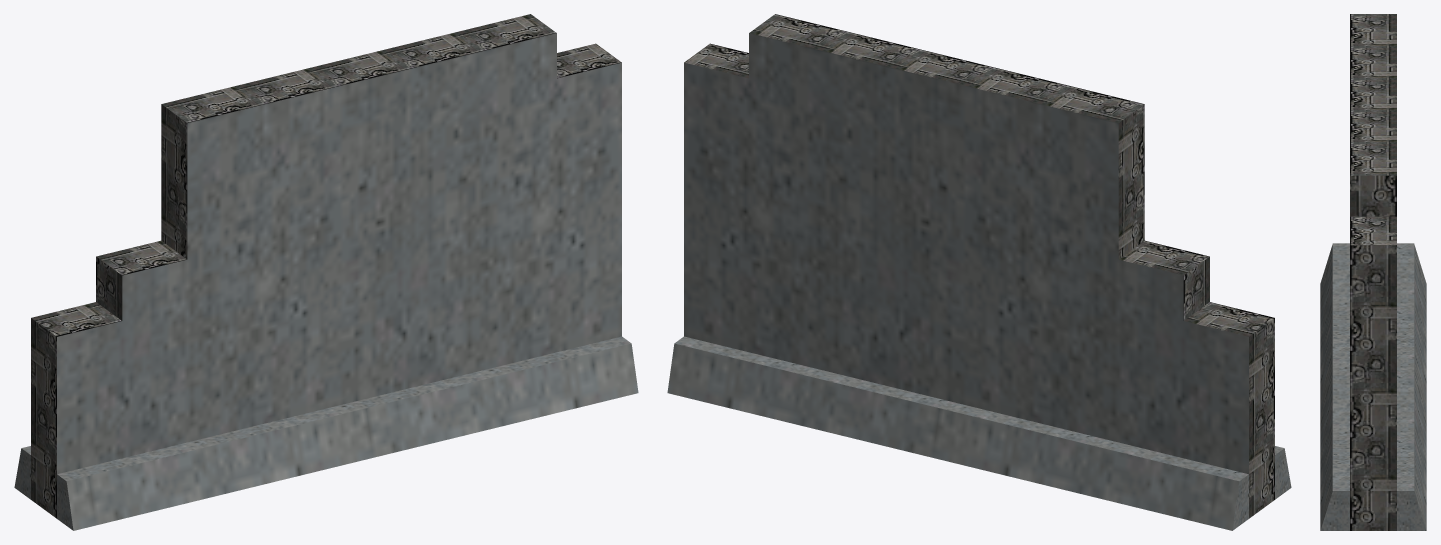
File: eqp_comp_building_wall.fbx
The picture shows the model from 3 angles, left to right: view 1: azimuth 30°, elevation 25°; view 2: azimuth 150°, elevation 25°; view 3: azimuth 270°, elevation 25°; orthographic projection. The views are drawn at different scales.
Visible parts, largest first — view 1: mesh_node; view 2: mesh_node; view 3: mesh_node.
Boxes of the visible parts, x1,y1,x2,y2 form: mesh_node: (14, 14, 638, 530); mesh_node: (667, 14, 1291, 530); mesh_node: (1320, 14, 1426, 530).
Size of the model in its own units: 1.62 by 1 by 0.2943.
